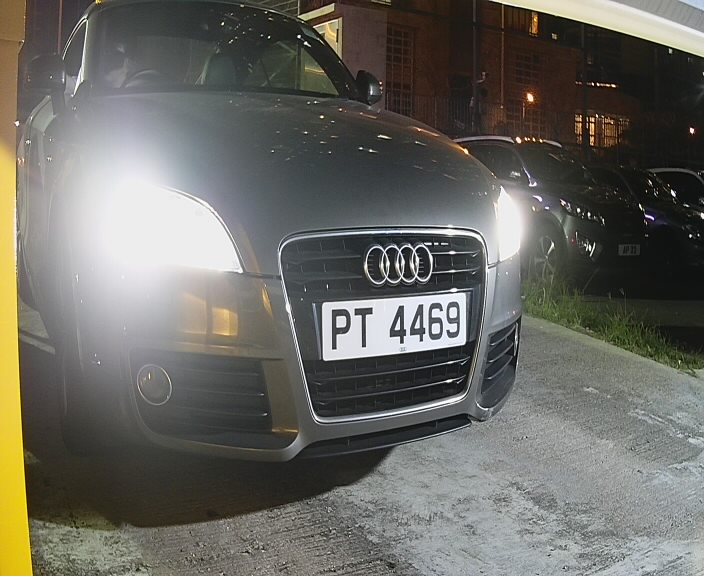Car: (8, 2, 546, 487)
License Plate: (318, 286, 481, 365)
